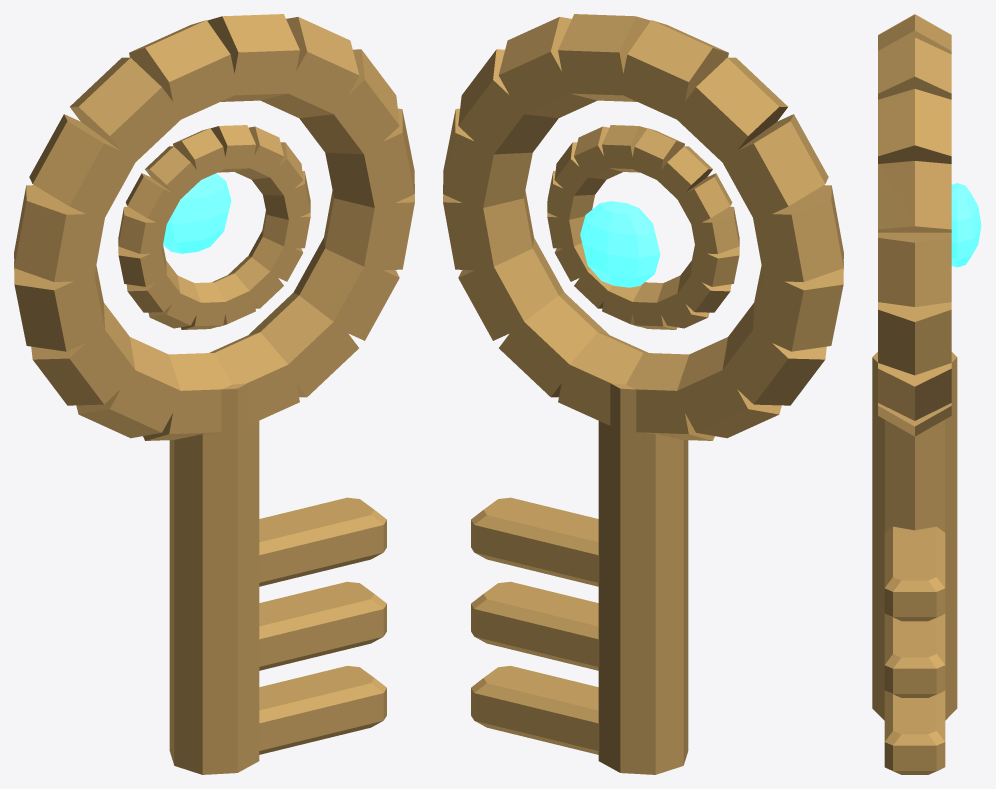
3 renders of one model, left to right at view 1: azimuth 30°, elevation 25°; view 2: azimuth 150°, elevation 25°; view 3: azimuth 270°, elevation 25°, orthographic. The views are drawn at different scales.
Parts seen in each view (by area): view 1: body; view 2: body; view 3: body.
Part boxes in pixels (box(x1,y1,x2,y2)): body: box(14, 14, 414, 774); body: box(443, 14, 843, 774); body: box(872, 14, 981, 774).
Size of the model in its own units: 0.3487 by 0.6143 by 0.09.
